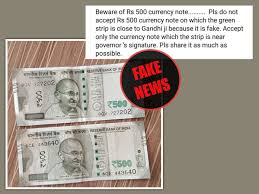fiveHundred: (22, 137, 139, 170), (21, 79, 130, 112)
